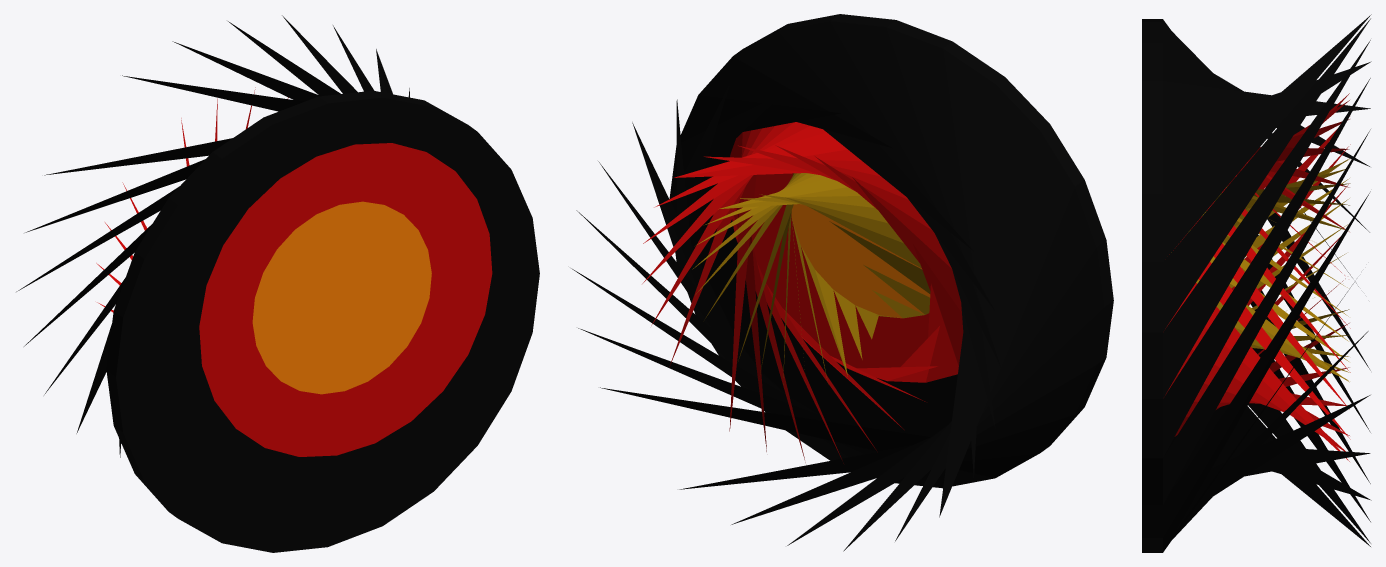
Rendered from cool-table.obj.
3 views of the same model, side by side, from view 1: azimuth 30°, elevation 25°; view 2: azimuth 150°, elevation 25°; view 3: azimuth 270°, elevation 25° (orthographic). The views are drawn at different scales.
Visible parts, largest first — view 1: obj75, obj25, obj50, obj9, obj8, obj7, obj10, obj6, obj11, obj5, obj89, obj88 (+4 smaller); view 2: obj75, obj2, obj25, obj3, obj4, obj5, obj6, obj7, obj50, obj1, obj21, obj8 (+51 smaller); view 3: obj10, obj9, obj11, obj22, obj23, obj8, obj24, obj7, obj16, obj15, obj14, obj6 (+38 smaller).
Boxes of the visible parts, x1=… form: obj75: x1=116, y1=97, x2=539, y2=552; obj25: x1=199, y1=143, x2=492, y2=456; obj50: x1=252, y1=201, x2=431, y2=394; obj9: x1=122, y1=75, x2=303, y2=111; obj8: x1=44, y1=138, x2=232, y2=175; obj7: x1=25, y1=159, x2=205, y2=232; obj10: x1=172, y1=41, x2=321, y2=101; obj6: x1=16, y1=186, x2=179, y2=291; obj11: x1=228, y1=21, x2=340, y2=95; obj5: x1=24, y1=224, x2=151, y2=346; obj89: x1=135, y1=198, x2=177, y2=258; obj88: x1=169, y1=152, x2=221, y2=204; obj75: x1=688, y1=139, x2=957, y2=436; obj2: x1=939, y1=131, x2=1074, y2=516; obj25: x1=751, y1=173, x2=929, y2=368; obj3: x1=939, y1=84, x2=1040, y2=515; obj4: x1=943, y1=49, x2=995, y2=477; obj5: x1=887, y1=27, x2=995, y2=427; obj6: x1=830, y1=21, x2=1002, y2=371; obj7: x1=778, y1=21, x2=994, y2=310; obj50: x1=791, y1=204, x2=930, y2=318; obj1: x1=895, y1=187, x2=1096, y2=541; obj21: x1=843, y1=247, x2=1103, y2=551; obj8: x1=733, y1=31, x2=973, y2=251; obj10: x1=1163, y1=18, x2=1370, y2=331; obj9: x1=1163, y1=14, x2=1371, y2=261; obj11: x1=1163, y1=40, x2=1370, y2=398; obj22: x1=1163, y1=78, x2=1370, y2=457; obj23: x1=1163, y1=129, x2=1370, y2=504; obj8: x1=1163, y1=61, x2=1371, y2=193; obj24: x1=1163, y1=193, x2=1369, y2=536; obj7: x1=1163, y1=80, x2=1370, y2=131; obj16: x1=1164, y1=440, x2=1370, y2=485; obj15: x1=1164, y1=395, x2=1370, y2=502; obj14: x1=1172, y1=331, x2=1368, y2=539; obj6: x1=1163, y1=43, x2=1369, y2=166.
Bounding box in the file's own units: 66.35 × 66.77 × 28.25.
